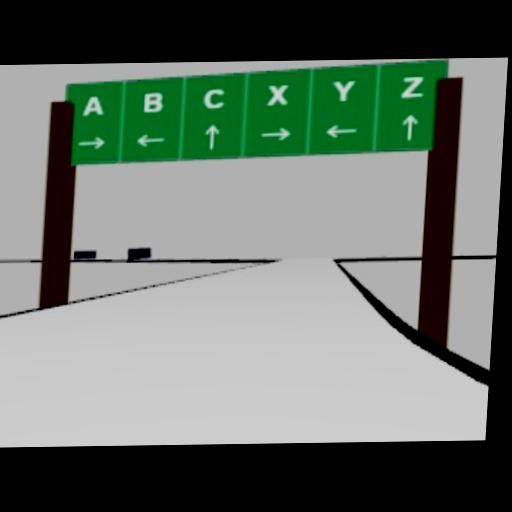A: (82, 93, 105, 116)
B: (142, 90, 166, 113)
C: (202, 87, 226, 108)
Left: (321, 123, 358, 139), (134, 131, 168, 146)
Right: (259, 126, 293, 140), (76, 136, 107, 149)
Straight: (399, 113, 419, 141), (203, 122, 221, 148)
X: (265, 84, 291, 105)
Y: (330, 77, 357, 101)
Z: (399, 74, 426, 97)
